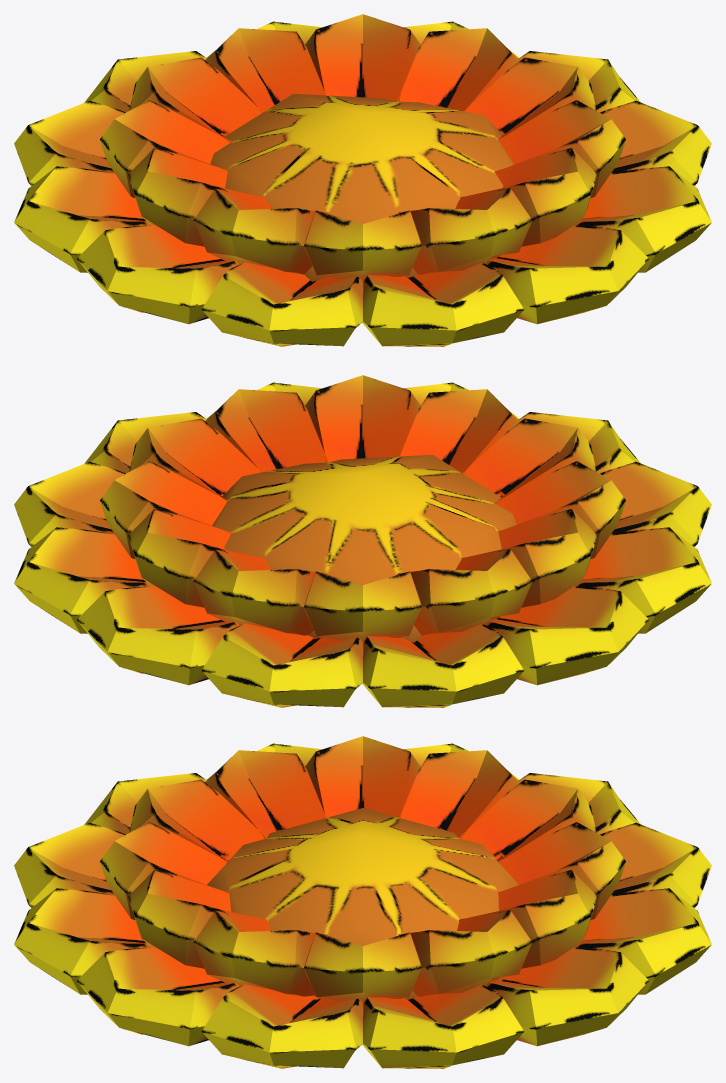
Rendered from SunPetal.fbx.
3 renders of one model, top to bottom at view 1: azimuth 30°, elevation 25°; view 2: azimuth 150°, elevation 25°; view 3: azimuth 270°, elevation 25°, orthographic.
Visible parts, largest first — view 1: SunPetal, Cube.100, Cube.106, Cube.107, Cube.099, Cube.101, Cube.105, Cube.091, Cube.095, Cube.094, Cube.097, Cube.088 (+13 smaller); view 2: SunPetal, Cube.110, Cube.104, Cube.105, Cube.103, Cube.099, Cube.109, Cube.089, Cube.098, Cube.093, Cube.096, Cube.092 (+13 smaller); view 3: SunPetal, Cube.102, Cube.108, Cube.109, Cube.101, Cube.103, Cube.107, Cube.096, Cube.097, Cube.087, Cube.094, Cube.093 (+13 smaller).
Boxes of the visible parts, x1,y1,x2,y2 form: SunPetal: (210,94,513,281); Cube.100: (362,262,524,346); Cube.106: (201,262,363,346); Cube.107: (486,225,648,324); Cube.099: (77,225,239,324); Cube.101: (576,166,711,272); Cube.105: (14,166,149,272); Cube.091: (305,14,420,101); Cube.095: (398,188,532,274); Cube.094: (193,188,328,274); Cube.097: (397,28,520,111); Cube.088: (304,210,421,280); SunPetal: (212,455,516,642); Cube.110: (201,623,363,707); Cube.104: (362,623,524,707); Cube.105: (486,586,648,685); Cube.103: (77,586,239,685); Cube.099: (576,527,711,633); Cube.109: (14,527,149,633); Cube.089: (305,375,420,462); Cube.098: (193,549,327,635); Cube.093: (397,549,532,635); Cube.096: (205,389,328,472); Cube.092: (304,571,421,641); SunPetal: (207,808,518,999); Cube.102: (362,984,524,1068); Cube.108: (201,984,363,1068); Cube.109: (486,947,648,1046); Cube.101: (77,947,239,1046); Cube.103: (576,888,711,994); Cube.107: (14,888,149,994); Cube.096: (193,910,327,996); Cube.097: (398,910,532,996); Cube.087: (305,736,420,817); Cube.094: (205,750,326,838); Cube.093: (399,750,520,838).
Size of the model in its own units: 85.61 by 85.61 by 19.92.
Materials: 1 (1 with a texture image).
